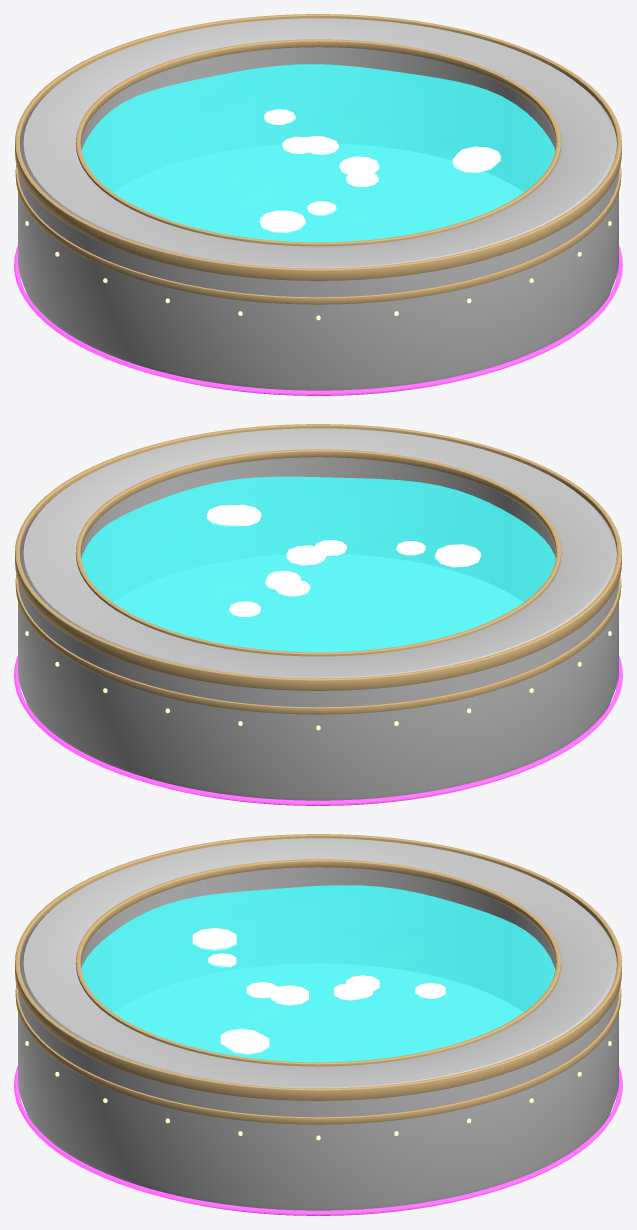
File: JAC_01_Jacuzzi.glb
The picture shows the model from 3 angles, top to bottom: view 1: azimuth 30°, elevation 25°; view 2: azimuth 150°, elevation 25°; view 3: azimuth 270°, elevation 25°; orthographic projection.
Parts seen in each view (by area): view 1: JAC_01_Jacuzzi; view 2: JAC_01_Jacuzzi; view 3: JAC_01_Jacuzzi.
Part boxes in pixels (box(x1,y1,x2,y2)): JAC_01_Jacuzzi: box(14, 14, 622, 395); JAC_01_Jacuzzi: box(14, 424, 622, 805); JAC_01_Jacuzzi: box(14, 834, 622, 1215).
Bounding box in the file's own units: 3.24 × 0.758 × 3.24.
